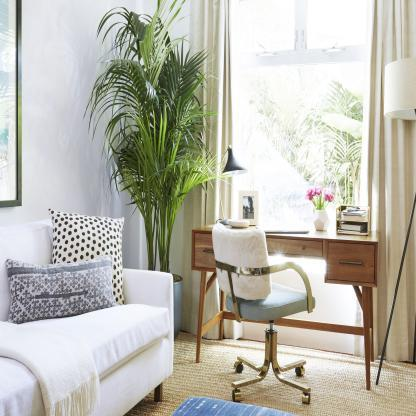chair: (209, 219, 319, 410)
light: (379, 55, 416, 393)
sofa: (0, 212, 176, 416)
table: (187, 219, 387, 388)
